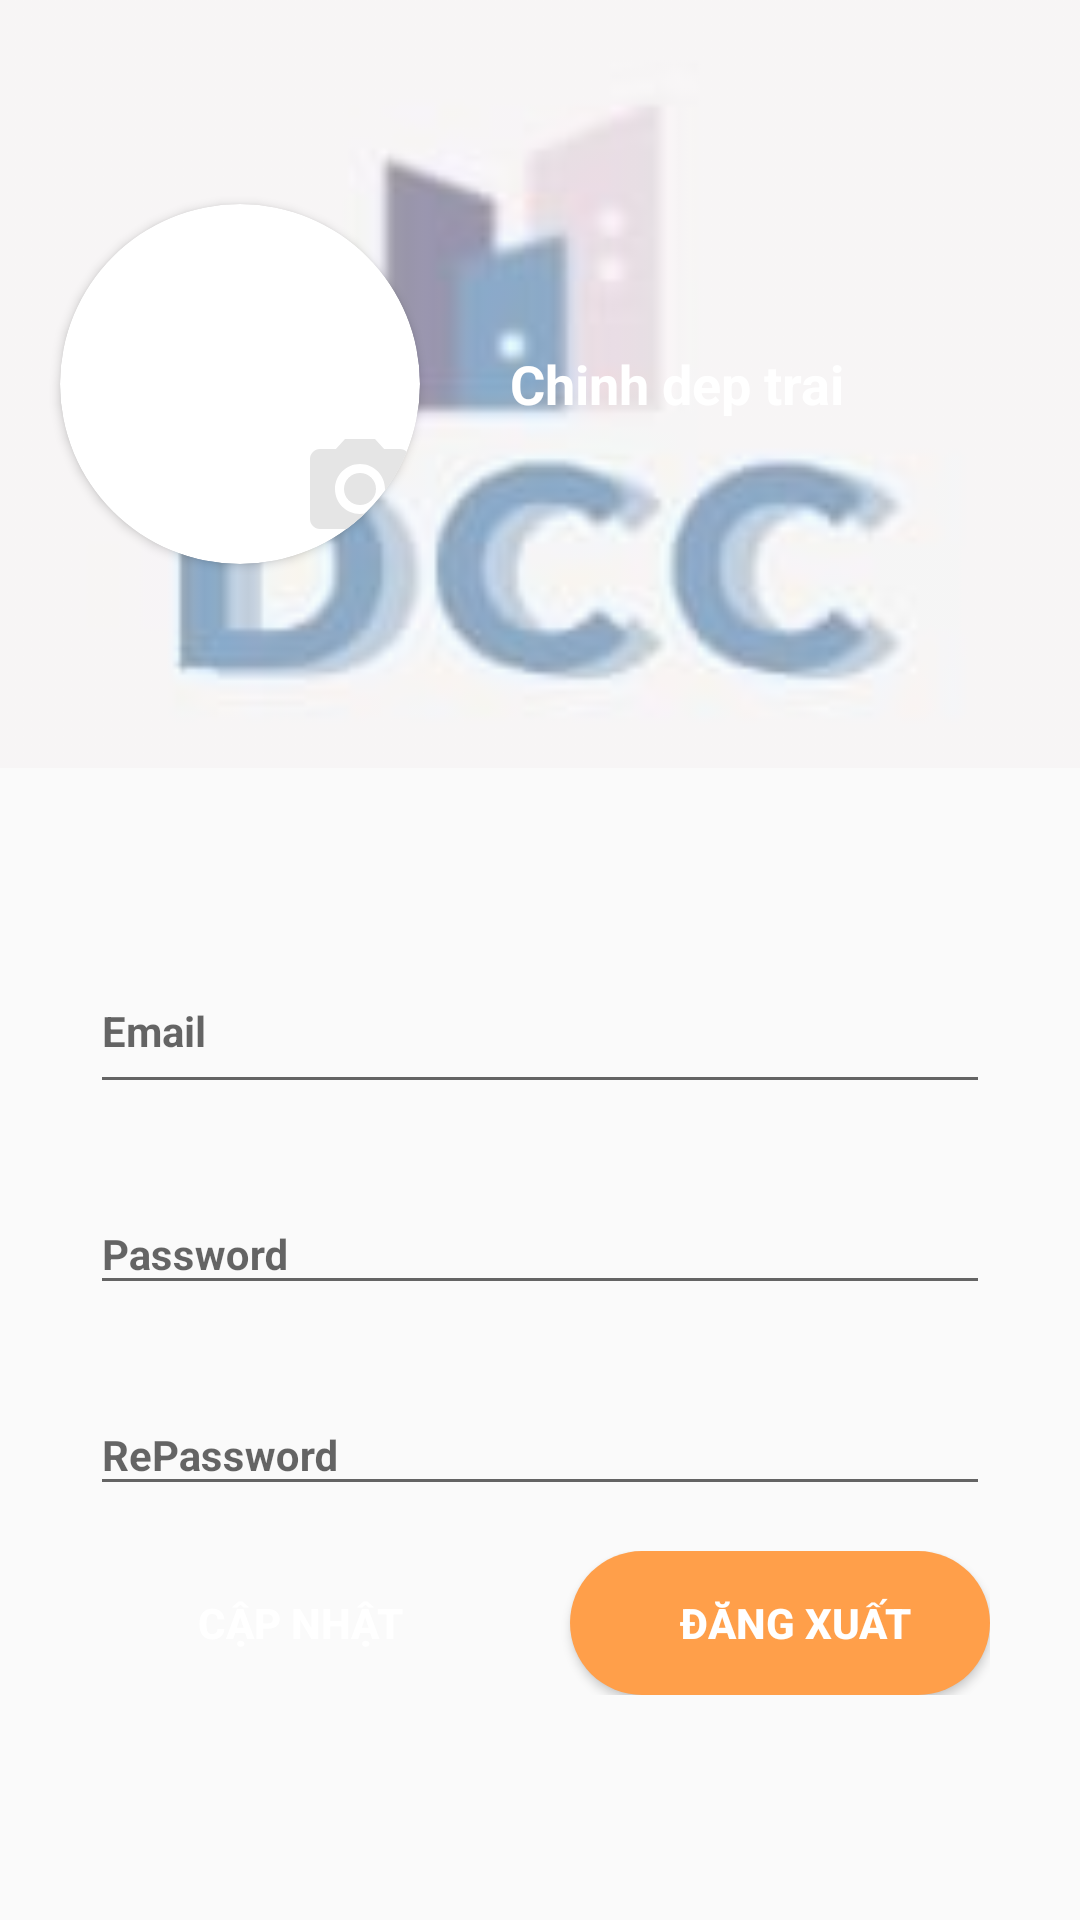

Screen size 1080px×1920px. Icon name, then its center in pixels as (x,y):
photo camera: (360,489)
